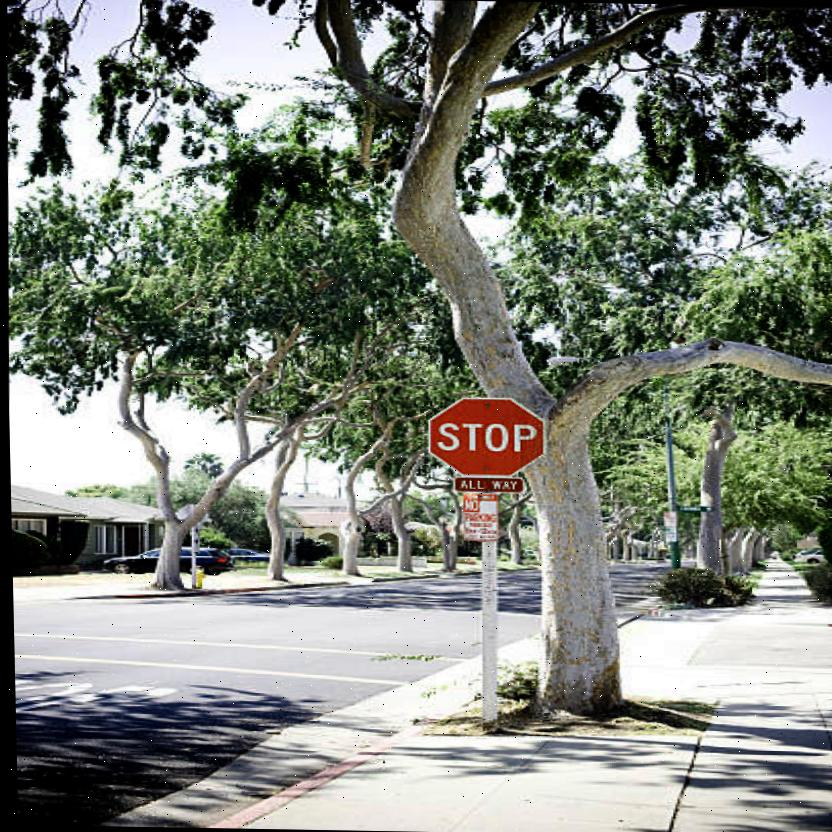Pole: (475, 539, 499, 727)
Sign: (425, 396, 546, 477)
